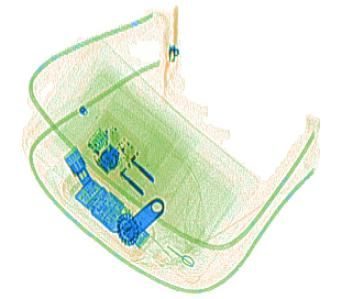USBFlashDisk: (73, 174, 152, 252), (63, 147, 101, 203)
